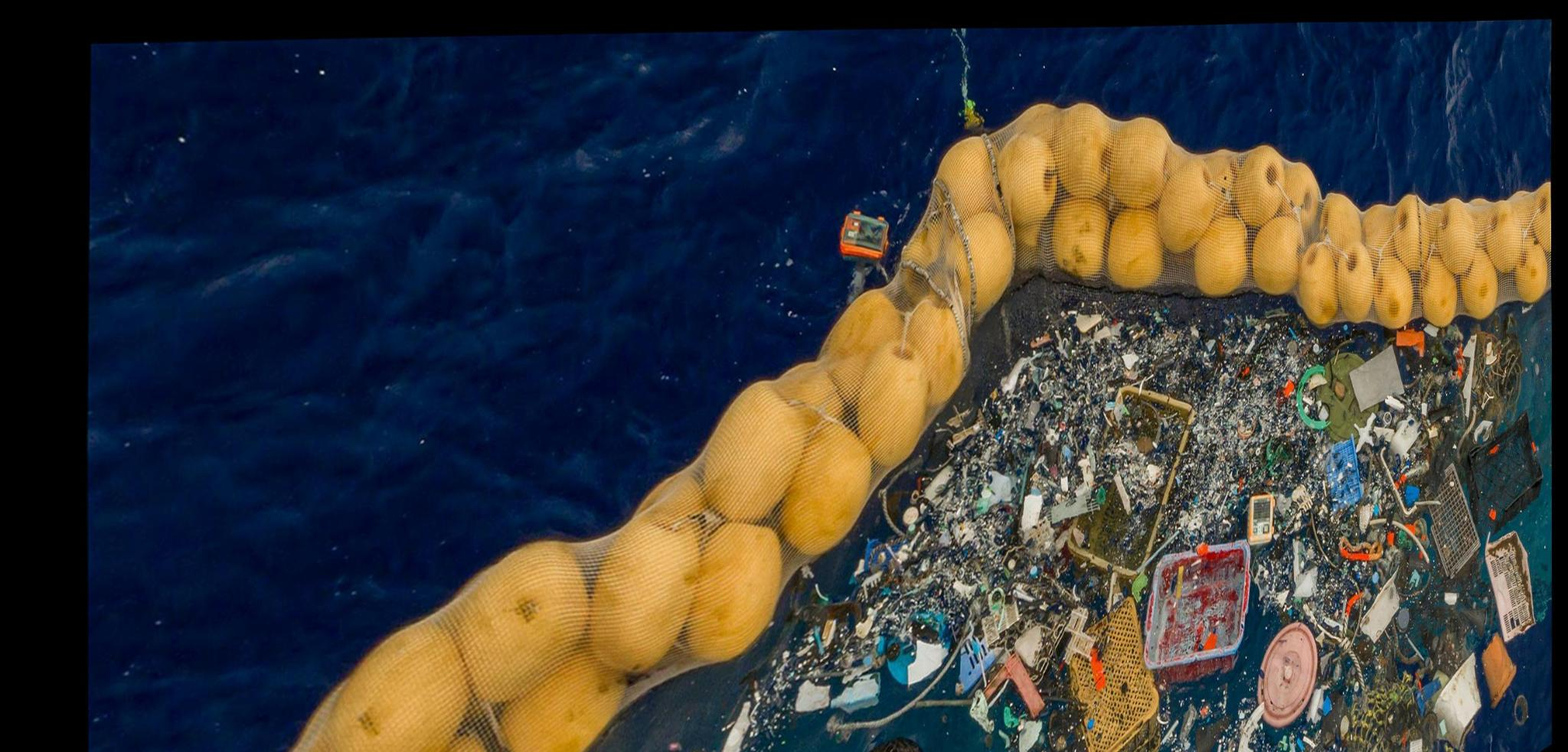Plastic Pollution: (978, 377, 1471, 752)
